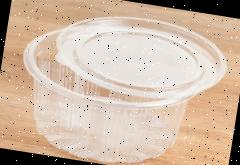plastic: (8, 0, 233, 165)
